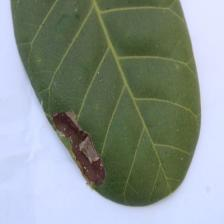leaf miner: (9, 0, 202, 207), (50, 109, 106, 187)
